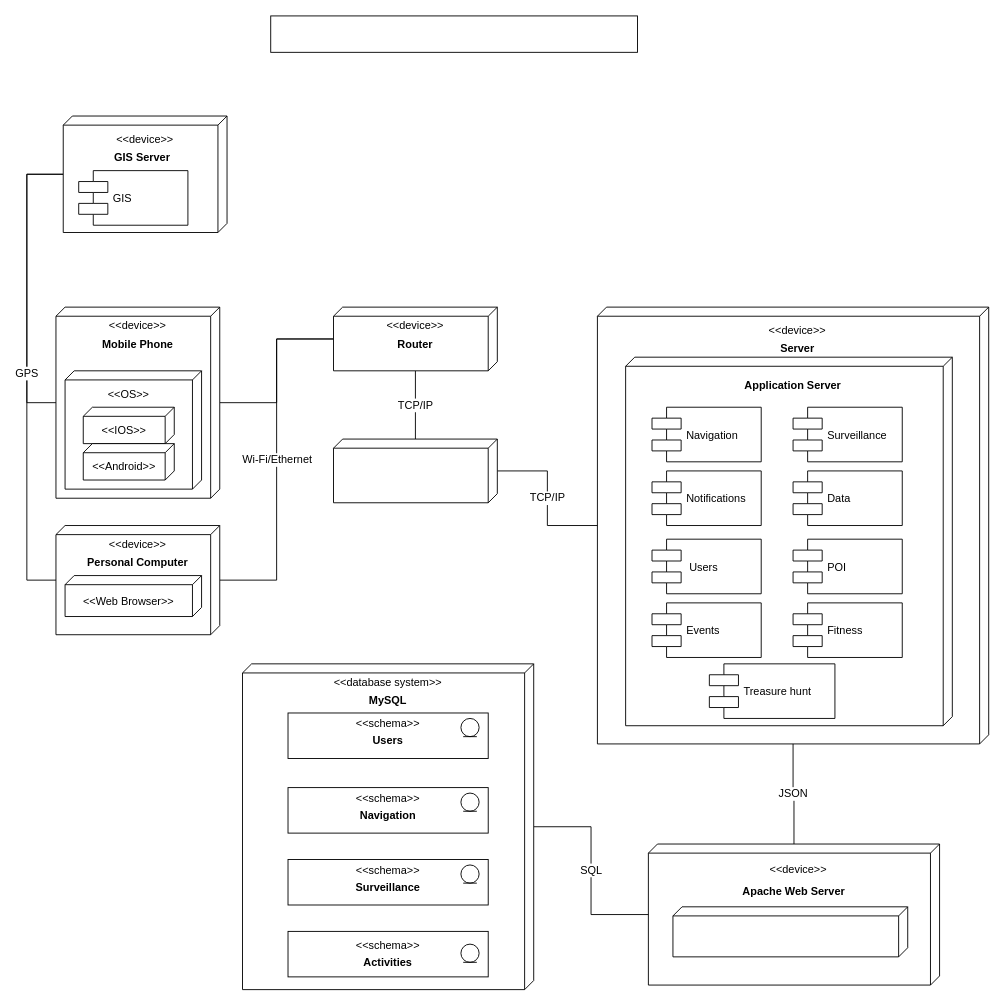
Some shapes in this 1005 by 1006 pixel diagram are drawn without their labels. Each missing label, with the centre of its shape:
Deployment Diagram: the point at 453,33
Internet: the point at 415,470
PHP Web Service: the point at 790,931
